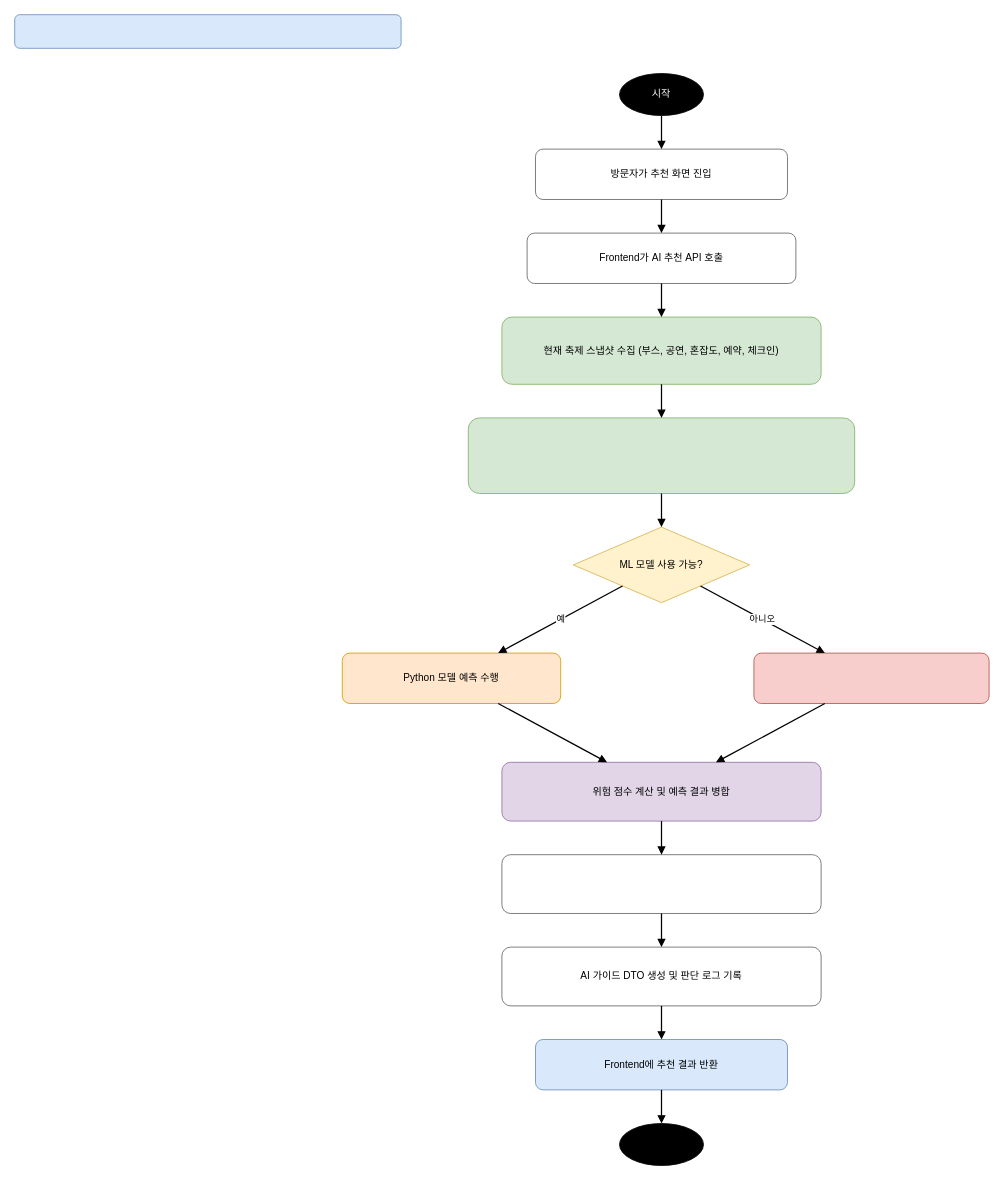
Image size: 1004x1180. Some labels were removed from this diagram. The shapes that lost their labels are listed below. From the top down, each one's box as (x1, y1, x2, y2) in pixels, then its label:
(14, 14, 401, 48): AI 혼잡도 예측 및 부스 추천 - 액티비티
(467, 417, 855, 494): 부스별 특징값 생성 GPS 수, 예약 수, 체크인 수, 재고, 대기시간, 공연 임박 여부
(753, 652, 989, 704): 규칙 기반 fallback 예측 생성
(501, 854, 821, 914): 추천 부스 / 회피 부스 / 추천 시점 분류
(619, 1123, 704, 1166): 종료
